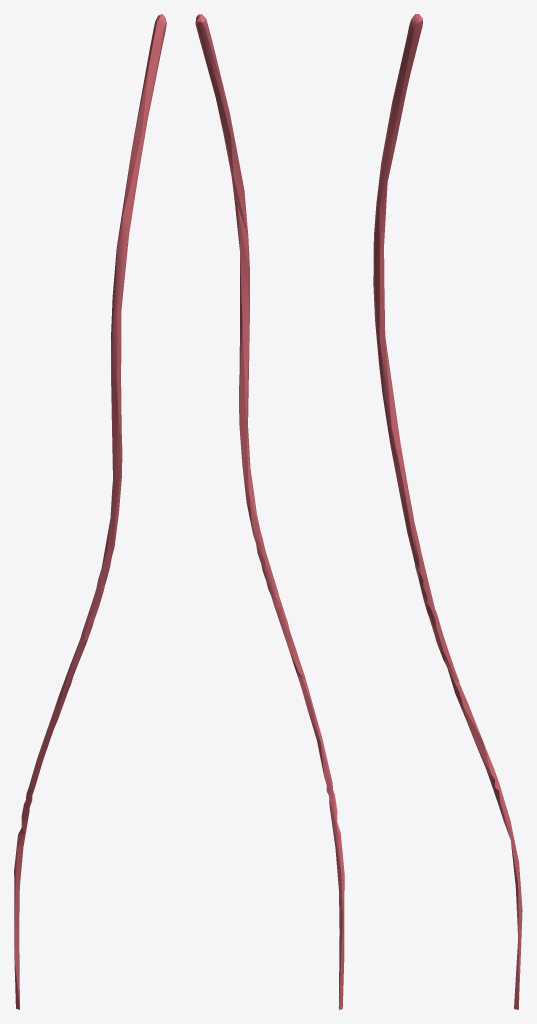
Rendered from fma78121_fj3654.glb.
3 views of the same model, side by side, from view 1: azimuth 30°, elevation 25°; view 2: azimuth 210°, elevation 25°; view 3: azimuth 270°, elevation 25° (orthographic). The views are drawn at different scales.
Visible parts, largest first — view 1: FMA78121_FJ3654; view 2: FMA78121_FJ3654; view 3: FMA78121_FJ3654.
Boxes of the visible parts, box(x1,y1,x2,y2) form: FMA78121_FJ3654: box(14, 14, 166, 1009); FMA78121_FJ3654: box(195, 14, 344, 1009); FMA78121_FJ3654: box(373, 14, 522, 1009).
Size of the model in its own units: 0.00939 by 0.0868 by 0.0113.
